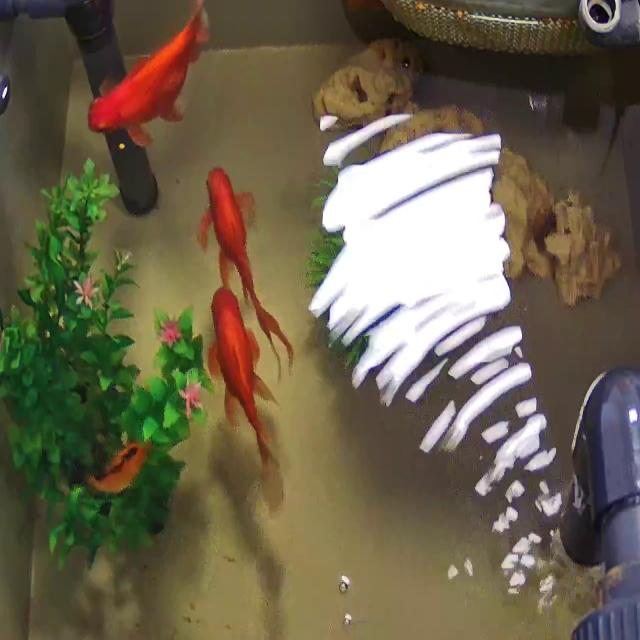fish: (85, 0, 217, 147), (201, 163, 291, 378), (208, 285, 284, 487), (84, 438, 154, 496)
